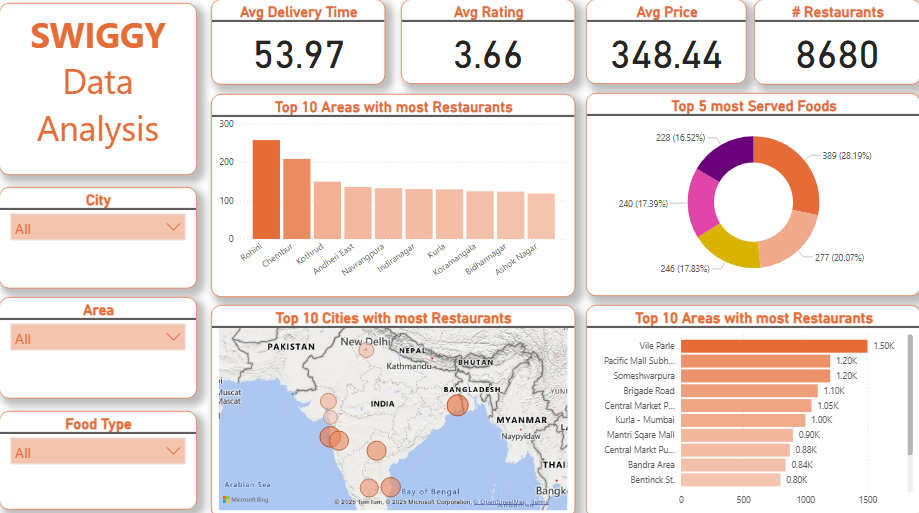

What the dashboard file says about the page in this screenshot:
{"tool":"powerbi","page":{"name":"Page 1","canvas":[1280,720],"ordinal":0},"visuals":[{"type":"card","title":"Avg Rating","fields":{"Values":["Avg(swiggy.Avg ratings)"]},"box":[557.7,0,241.9,117.6],"z":0},{"type":"card","title":"Avg Price","fields":{"Values":["Avg(swiggy.Price)"]},"box":[814.7,0,223.4,117.6],"z":1000},{"type":"card","title":"# Restaurants","fields":{"Values":["CountNonNull(swiggy.Restaurant)"]},"box":[1048.2,0,231.8,119.3],"z":2000},{"type":"card","title":"Avg Delivery Time","fields":{"Values":["Avg(swiggy.Delivery time)"]},"box":[294,0,241.9,119.3],"z":3000},{"type":"columnChart","title":"Top 10 Areas with most Restaurants","fields":{"Category":["swiggy.Area"],"Y":["CountNonNull(swiggy.ID)"]},"box":[294.1,131.4,505.9,282.4],"z":4000},{"type":"donutChart","title":"Top 5 most Served Foods","fields":{"Category":["swiggy.Food type"],"Y":["CountNonNull(swiggy.ID)"]},"box":[814.7,131,465.3,282.2],"z":5000},{"type":"map","title":"Top 10 Cities with most Restaurants","fields":{"Category":["swiggy.City"],"Size":["CountNonNull(swiggy.ID)"]},"box":[294,425,505.6,295.6],"z":6000},{"type":"clusteredBarChart","title":"Top 10 Areas with most Restaurants","fields":{"Category":["swiggy.Area"],"Y":["Avg(swiggy.Price)"]},"box":[814.7,425,465.3,295.6],"z":7000},{"type":"slicer","title":"City","fields":{"Values":["swiggy.City"]},"box":[0,260.8,274.5,141.2],"z":8000},{"type":"slicer","title":"Area","fields":{"Values":["swiggy.Area"]},"box":[0,413.7,274.5,141.2],"z":9000},{"type":"textbox","box":[0,5.9,274.5,239.2],"z":10000},{"type":"slicer","title":"Food Type","fields":{"Values":["swiggy.Food type"]},"box":[0,572.5,274.5,137.3],"z":11000}]}

Visuals, with their boxes in screenshot pixels (x1, y1, x2, y2), scaled from the page's 1280x720 canvas onto the 919x513 screenshot:
"Avg Rating" card: (400,0,574,84)
"Avg Price" card: (585,0,745,84)
"# Restaurants" card: (753,0,918,85)
"Avg Delivery Time" card: (211,0,385,85)
"Top 10 Areas with most Restaurants" columnChart: (211,94,574,295)
"Top 5 most Served Foods" donutChart: (585,93,918,294)
"Top 10 Cities with most Restaurants" map: (211,303,574,512)
"Top 10 Areas with most Restaurants" clusteredBarChart: (585,303,918,512)
"City" slicer: (0,186,197,286)
"Area" slicer: (0,295,197,395)
textbox: (0,4,197,175)
"Food Type" slicer: (0,408,197,506)
